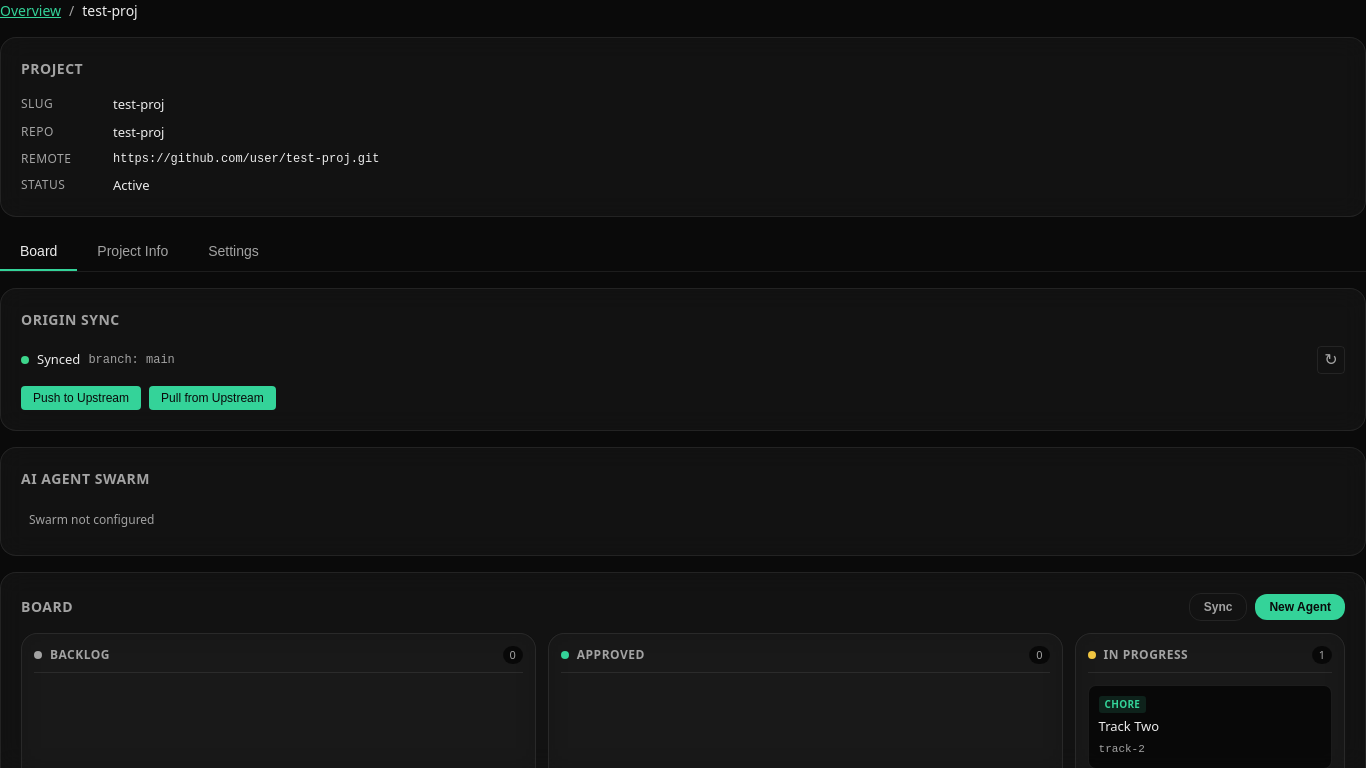
Scenario: ProjectPage › opens launcher when new agent is clicked
Click the button "New Agent" at (1300, 606), box [1255,594,1345,620]
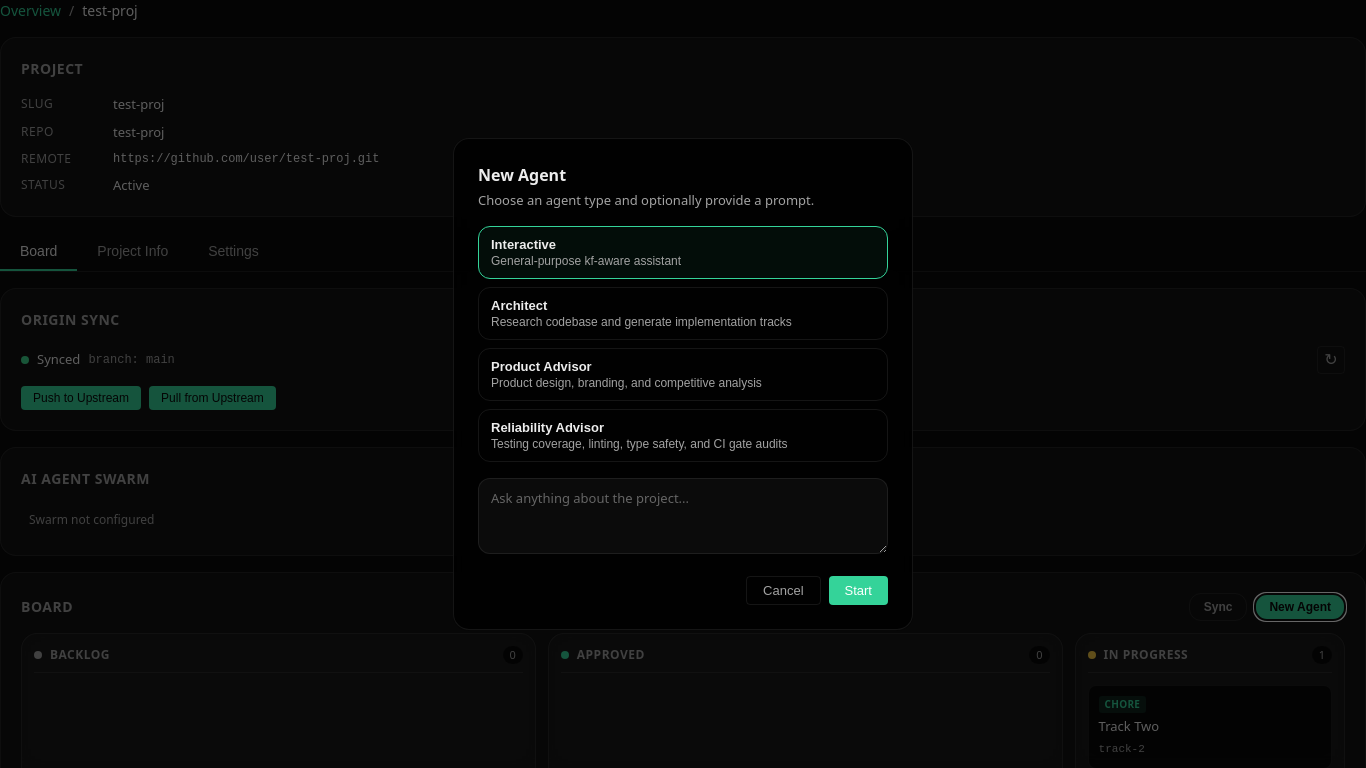
Now the text "Interactive" is shown, box [491,237,556,252]
Now the text "Product Advisor" is shown, box [491,359,592,374]
Now the button "Start" is shown, box [828,576,888,605]
